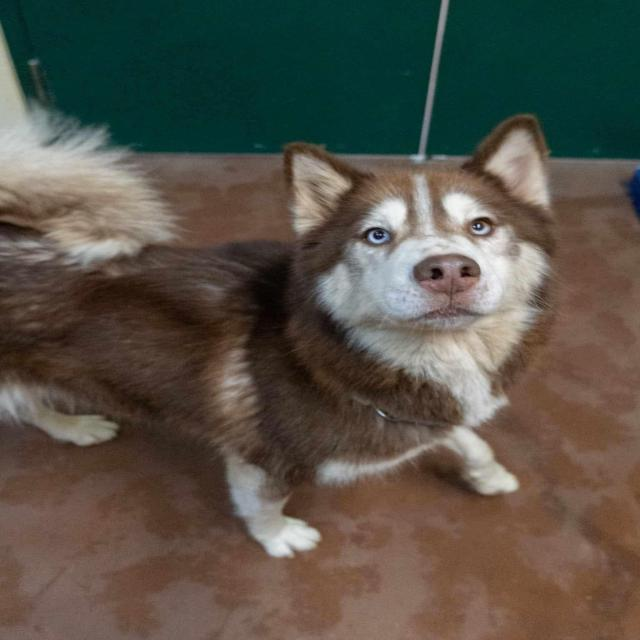siberian_husky_dog: (260, 99, 574, 397)
